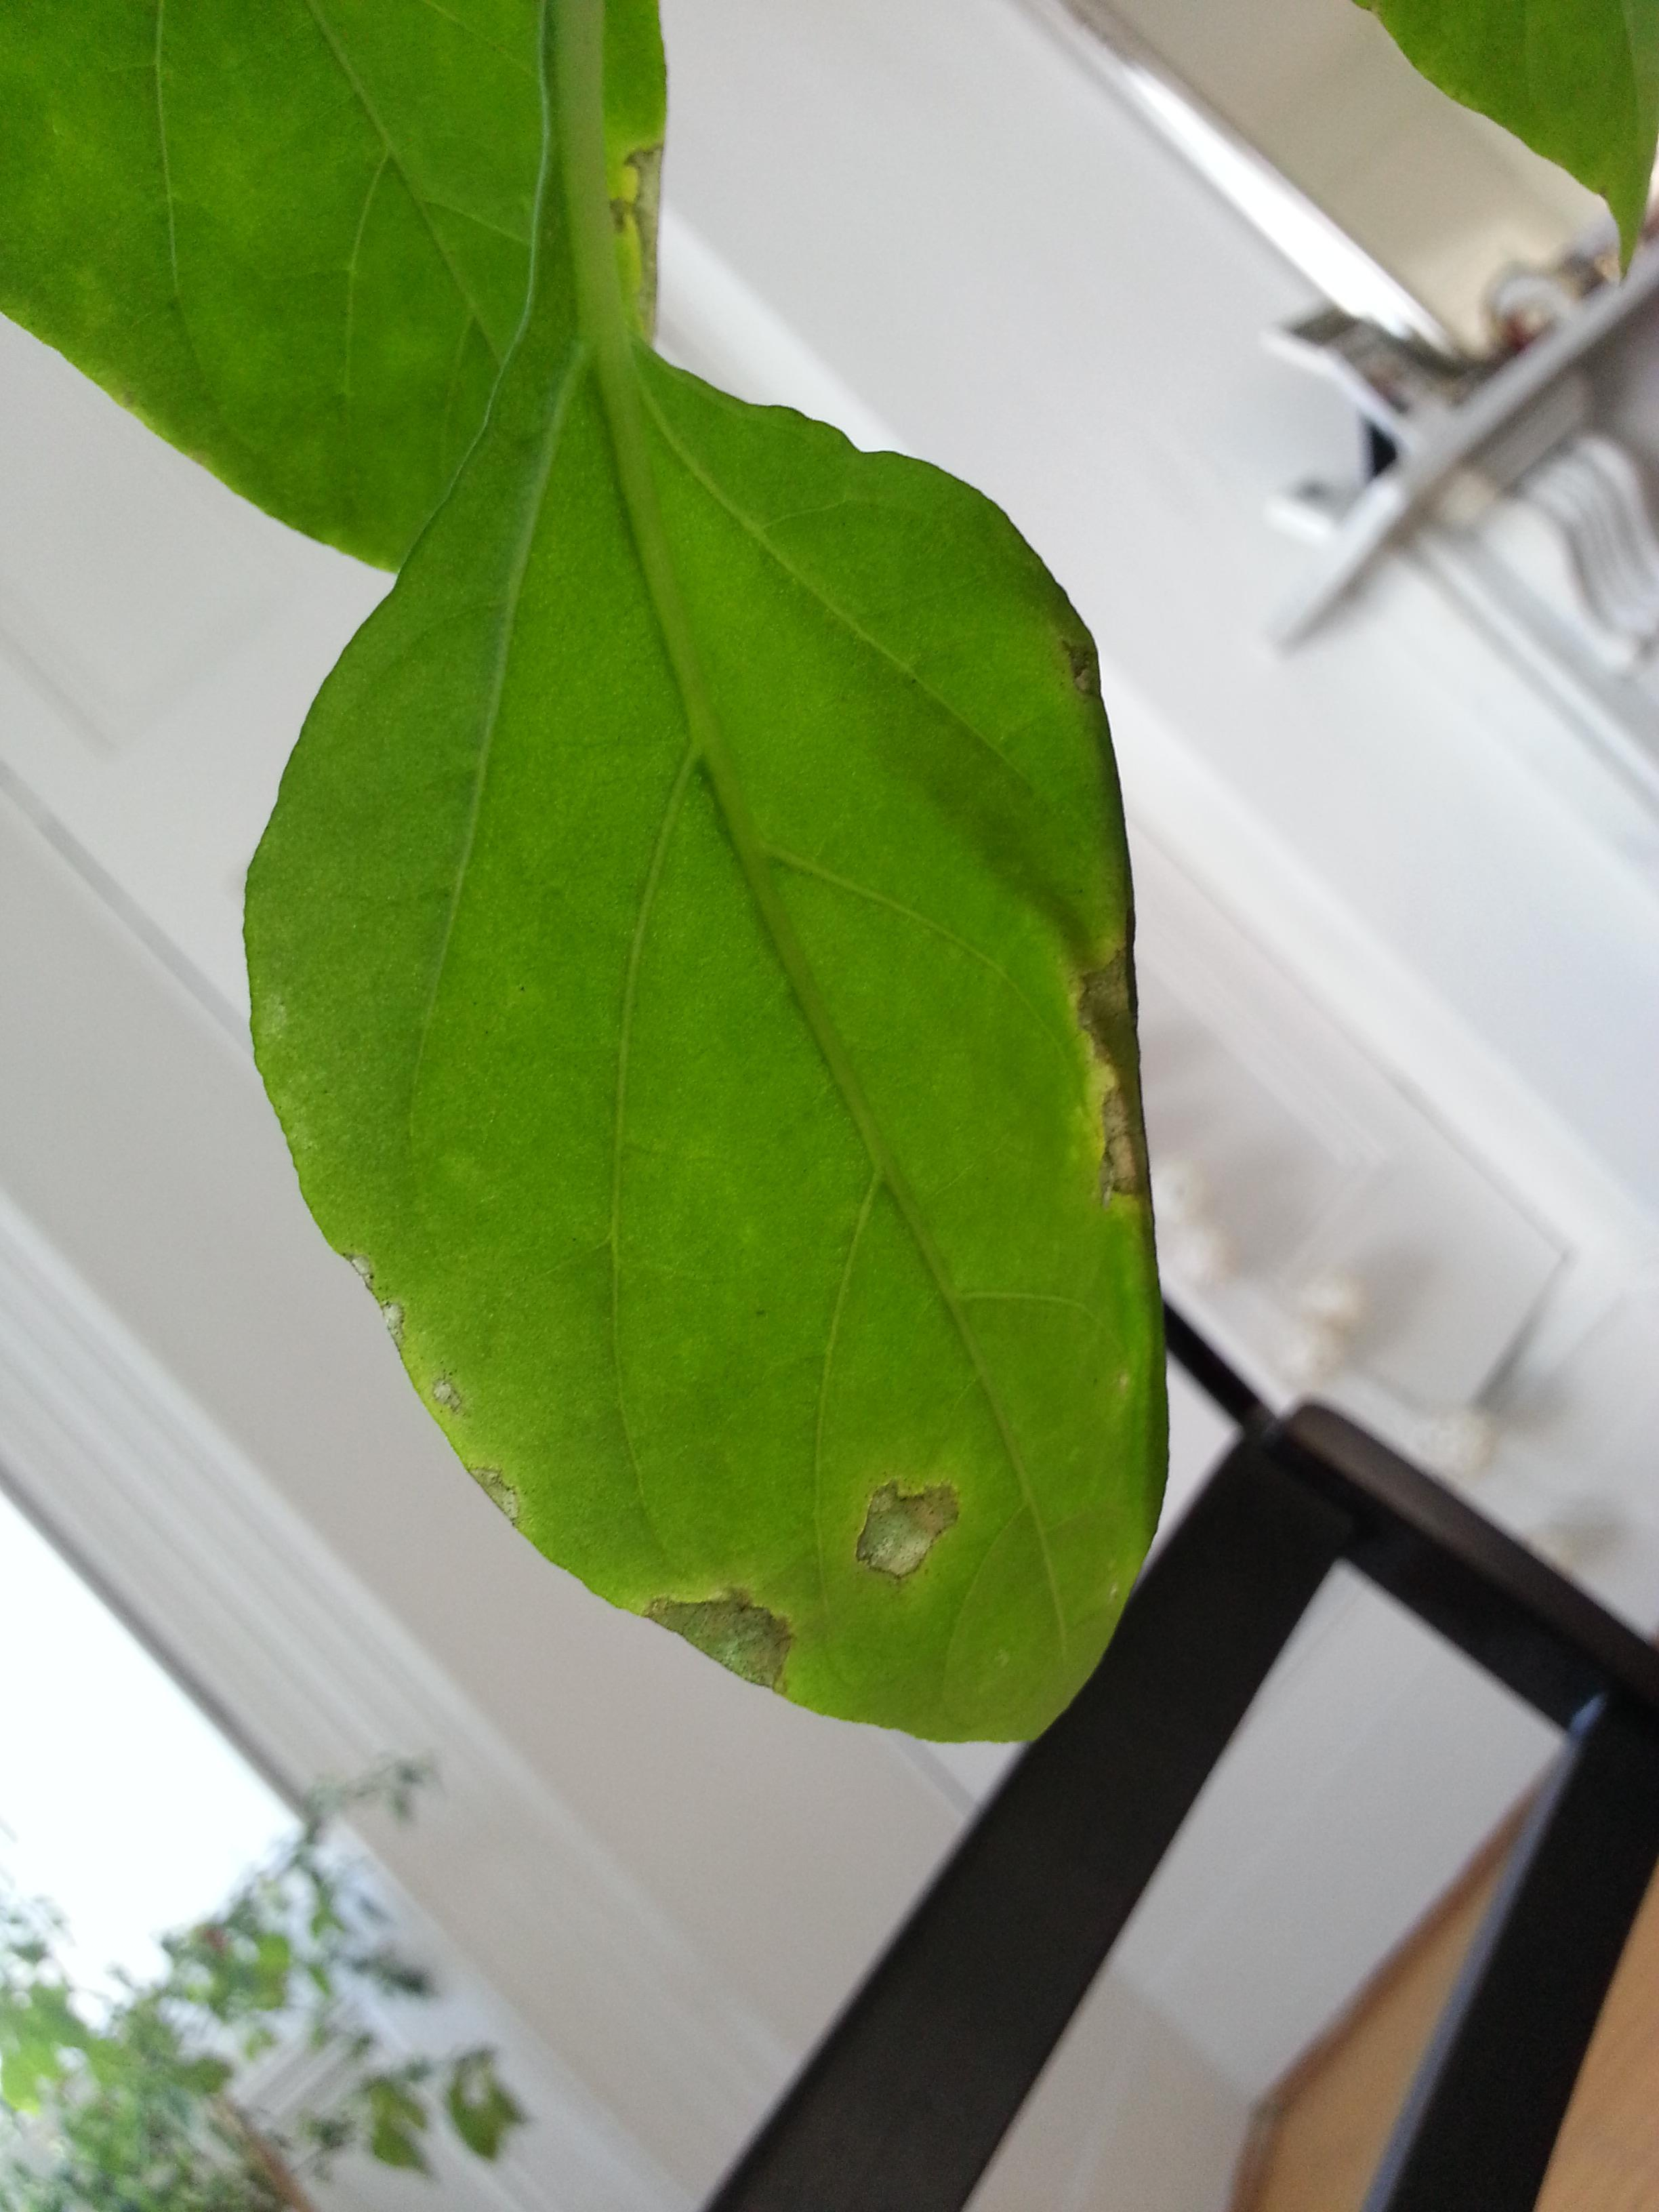Bell_pepper leaf: (235, 303, 1192, 1761)
